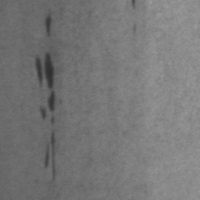inclusion: (33, 89, 59, 187), (31, 49, 60, 91), (41, 11, 57, 40)
